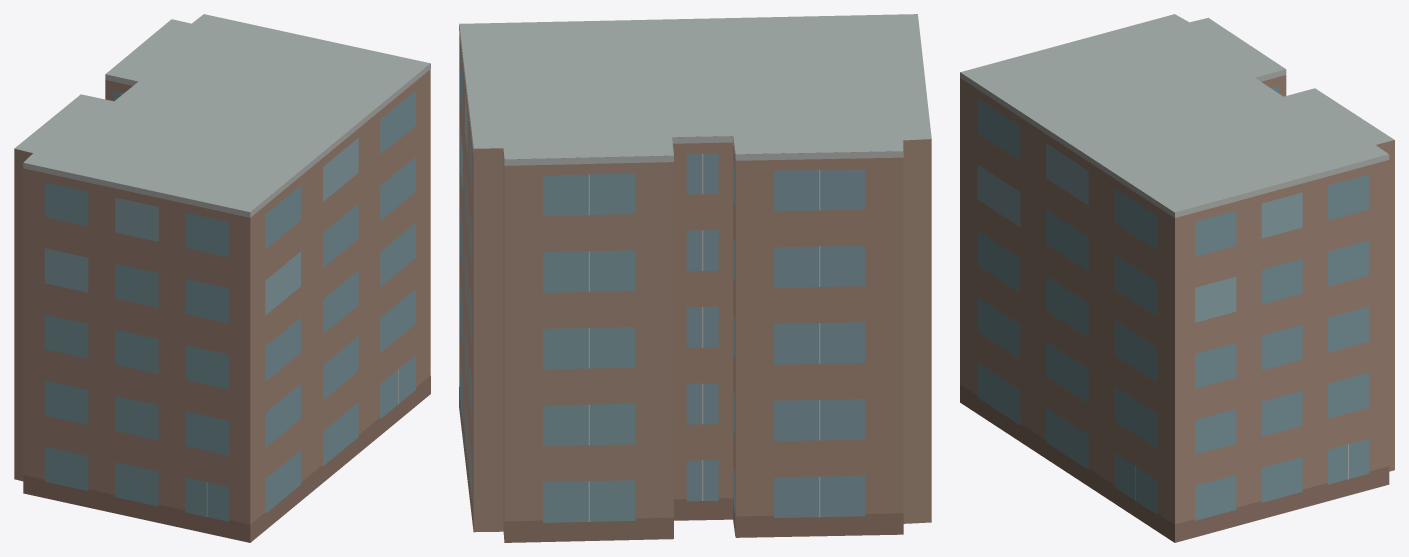
Rendered from survey-upis-32719682.glb.
3 views of the same model, side by side, from view 1: azimuth 30°, elevation 25°; view 2: azimuth 150°, elevation 25°; view 3: azimuth 270°, elevation 25° (orthographic). The views are drawn at different scales.
Visible parts, largest first — view 1: survey-upis-32719682.tmp; view 2: survey-upis-32719682.tmp; view 3: survey-upis-32719682.tmp.
Part boxes in pixels (<box>): survey-upis-32719682.tmp: <box>14,14,430,542</box>; survey-upis-32719682.tmp: <box>459,14,931,542</box>; survey-upis-32719682.tmp: <box>960,14,1394,542</box>.
Size of the model in its own units: 18.65 by 14.46 by 17.26.
